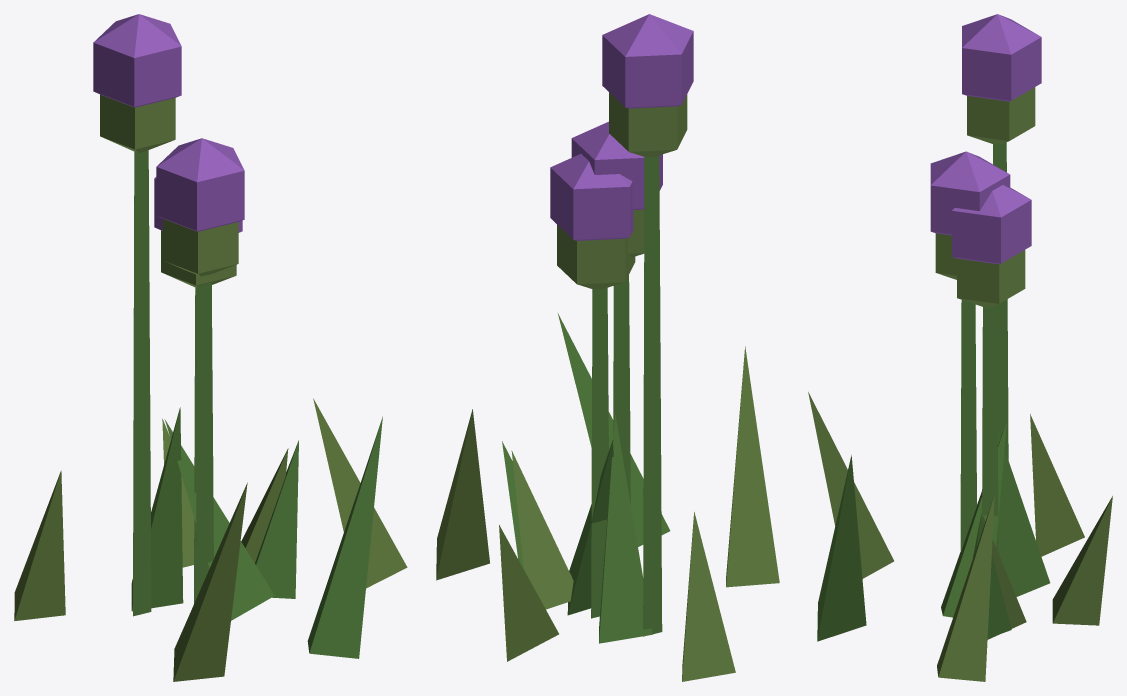
The model's file is cover_thistle.glb.
3 renders of one model, left to right at view 1: azimuth 30°, elevation 25°; view 2: azimuth 150°, elevation 25°; view 3: azimuth 270°, elevation 25°, orthographic. The views are drawn at different scales.
Visible parts, largest first — view 1: cover_thistle; view 2: cover_thistle; view 3: cover_thistle.
Part boxes in pixels (left/top/right/bottom): cover_thistle: left=14, top=14, right=407, bottom=681; cover_thistle: left=436, top=14, right=779, bottom=681; cover_thistle: left=808, top=14, right=1112, bottom=681.
Bounding box in the file's own units: 0.5109 × 0.8698 × 0.4195.
